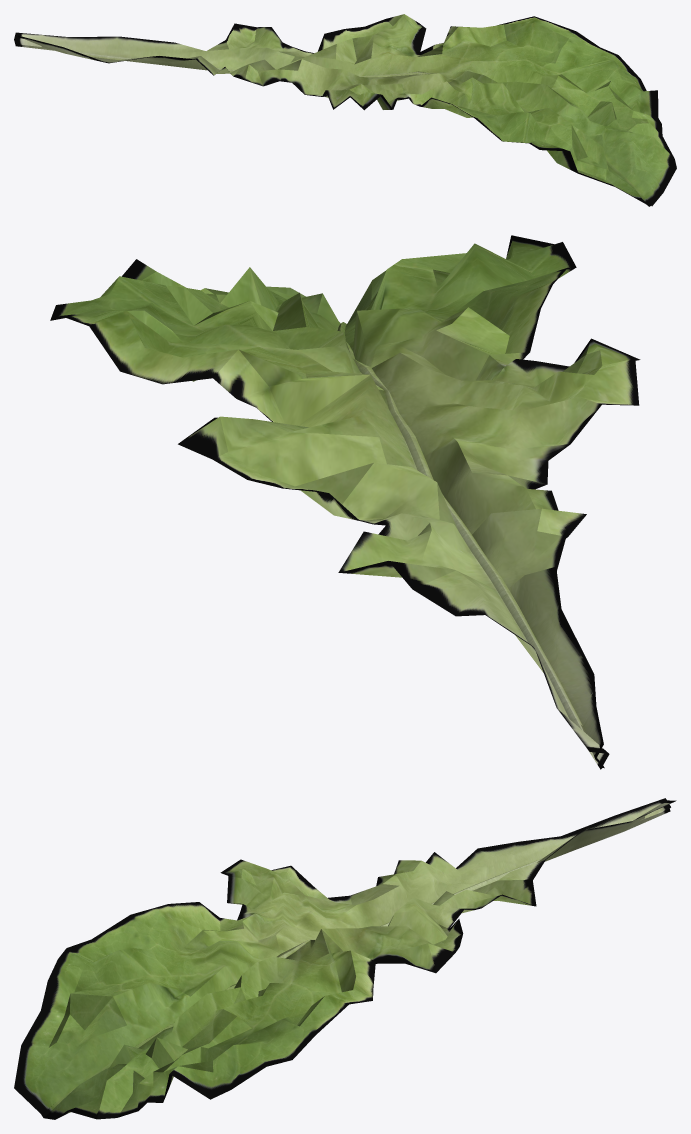
File: Lettuce6.fbx
3 views of the same model, one above another, from view 1: azimuth 30°, elevation 25°; view 2: azimuth 150°, elevation 25°; view 3: azimuth 270°, elevation 25° (orthographic). The views are drawn at different scales.
Visible parts, largest first — view 1: lettuce2_1_4; view 2: lettuce2_1_4; view 3: lettuce2_1_4.
Part boxes in pixels (x1,y1,x2,y2): lettuce2_1_4: (14,14,676,206); lettuce2_1_4: (50,235,640,769); lettuce2_1_4: (14,798,676,1119).
Size of the model in its own units: 9.45 by 2.11 by 9.91.
